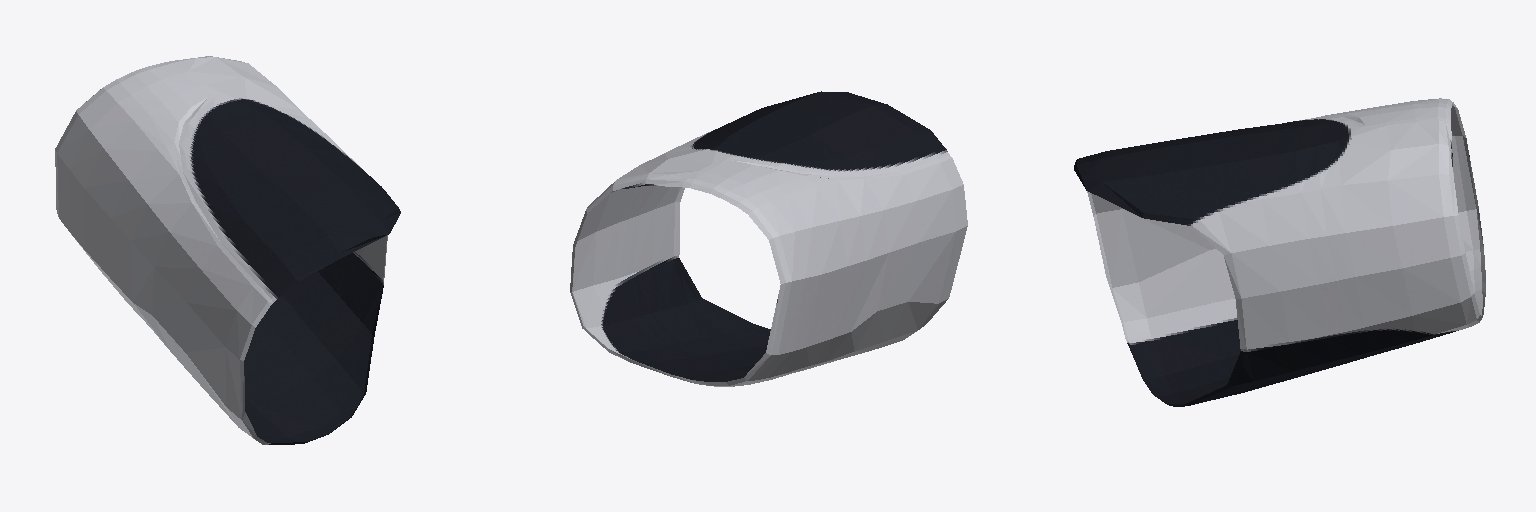
3 views of the same model, side by side, from view 1: azimuth 30°, elevation 25°; view 2: azimuth 150°, elevation 25°; view 3: azimuth 270°, elevation 25° (orthographic).
Visible parts, largest first — view 1: L_ELBOW_P-466-FACES; view 2: L_ELBOW_P-466-FACES; view 3: L_ELBOW_P-466-FACES.
Part boxes in pixels (left/top/right/bottom): L_ELBOW_P-466-FACES: left=55, top=56, right=400, bottom=444; L_ELBOW_P-466-FACES: left=570, top=91, right=967, bottom=386; L_ELBOW_P-466-FACES: left=1074, top=98, right=1485, bottom=406.
Bounding box in the file's own units: 0.0747 × 0.0861 × 0.1183.
1 materials, 1 textured.